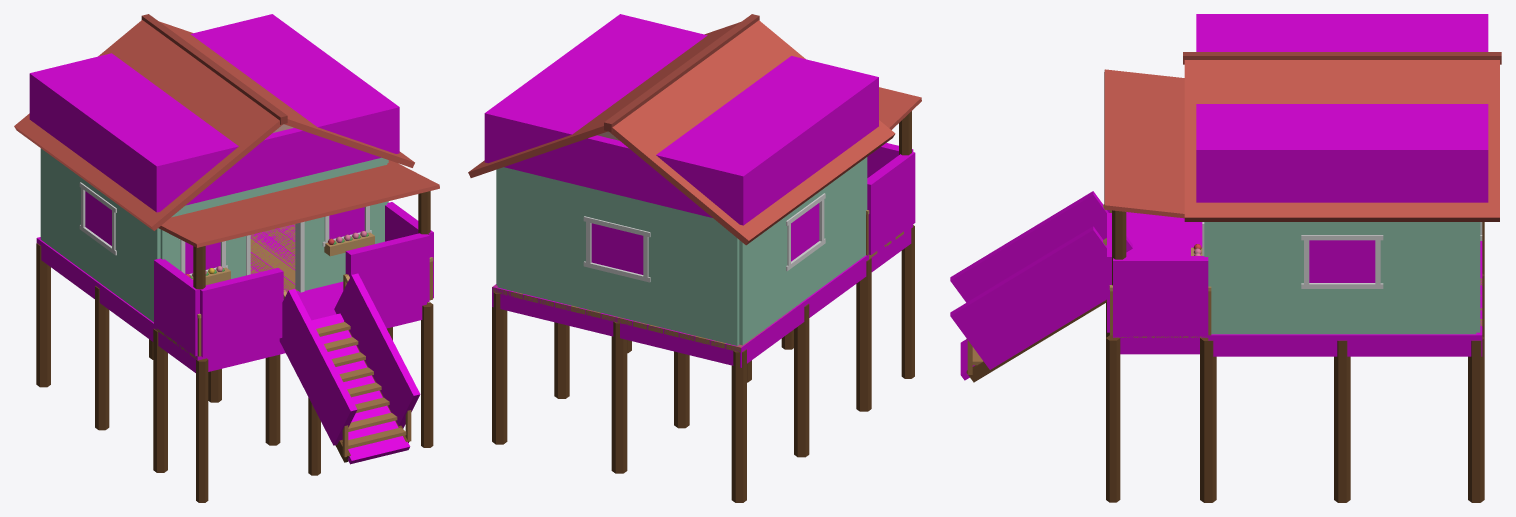
File: stilt_house_d-D0Nya6FB.glb
The picture shows the model from 3 angles, left to right: view 1: azimuth 30°, elevation 25°; view 2: azimuth 150°, elevation 25°; view 3: azimuth 270°, elevation 25°; orthographic projection. The views are drawn at different scales.
Parts seen in each view (by area): view 1: stilt_house_d, COL_stilt_house_d, COLP_stilt_house_d; view 2: stilt_house_d, COL_stilt_house_d, COLP_stilt_house_d; view 3: stilt_house_d, COL_stilt_house_d, COLP_stilt_house_d.
Part boxes in pixels (x1=…): stilt_house_d: x1=14, y1=14, x2=439, y2=502; COL_stilt_house_d: x1=29, y1=14, x2=426, y2=464; COLP_stilt_house_d: x1=154, y1=202, x2=433, y2=445; stilt_house_d: x1=468, y1=14, x2=921, y2=502; COL_stilt_house_d: x1=484, y1=14, x2=912, y2=367; COLP_stilt_house_d: x1=867, y1=143, x2=915, y2=254; stilt_house_d: x1=966, y1=52, x2=1501, y2=502; COL_stilt_house_d: x1=960, y1=14, x2=1488, y2=380; COLP_stilt_house_d: x1=950, y1=191, x2=1208, y2=369.
Size of the model in its own units: 5.86 by 7.1 by 9.26.
